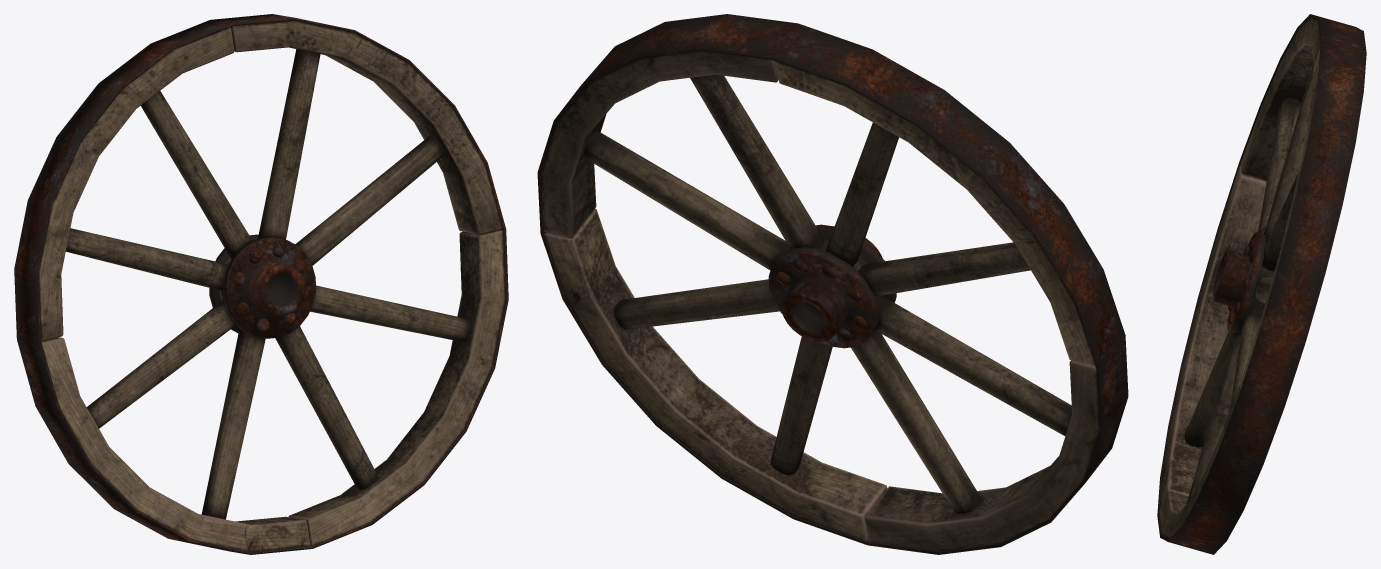
Rendered from ruedaSuelta.fbx.
3 renders of one model, left to right at view 1: azimuth 30°, elevation 25°; view 2: azimuth 150°, elevation 25°; view 3: azimuth 270°, elevation 25°, orthographic. The views are drawn at different scales.
Parts seen in each view (by area): view 1: Wheel; view 2: Wheel; view 3: Wheel.
Boxes of the visible parts, <box> form: Wheel: <box>14,14,508,554</box>; Wheel: <box>537,14,1128,554</box>; Wheel: <box>1157,14,1366,554</box>.
Size of the model in its own units: 218 by 214 by 83.01.
